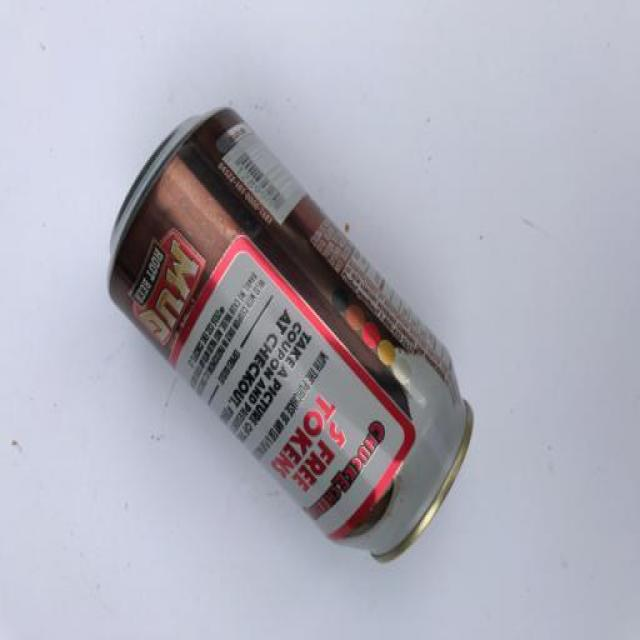metel: (88, 89, 497, 603)
